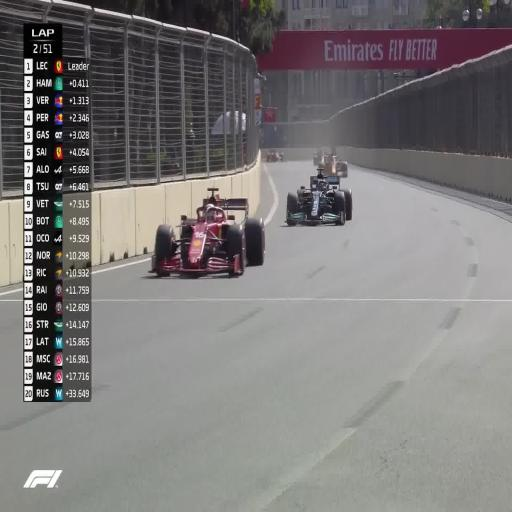f1_car: (150, 188, 265, 276), (286, 168, 352, 225), (325, 154, 347, 177), (313, 148, 325, 168), (266, 149, 283, 162)
